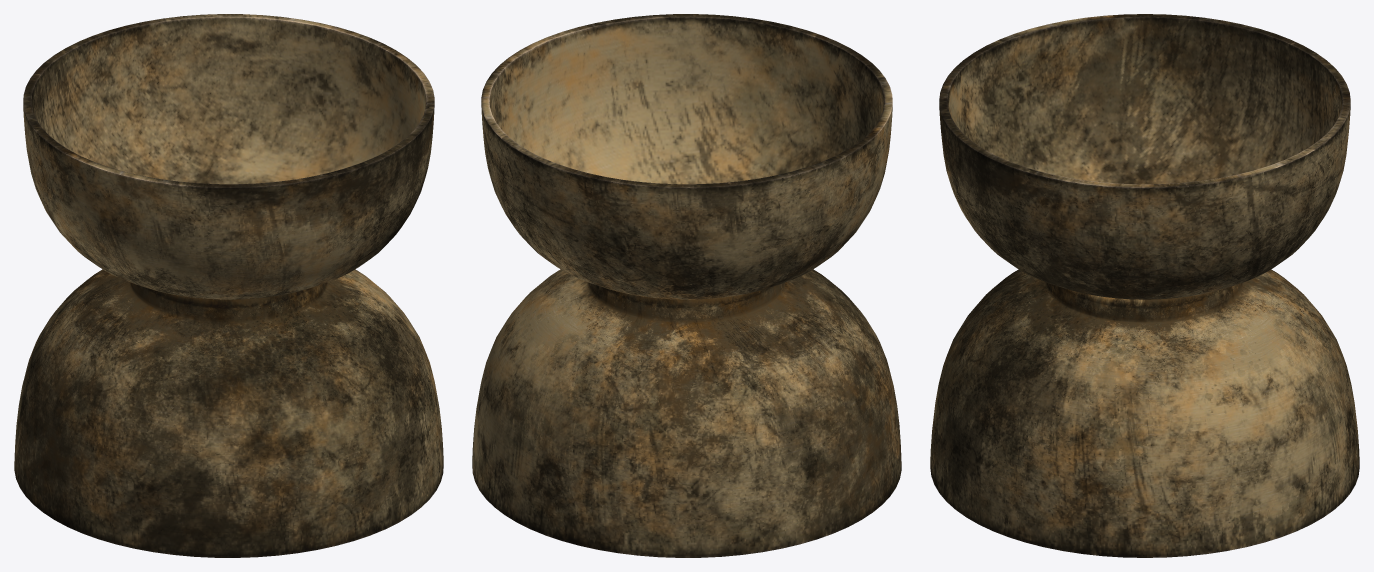
Rendered from SM_Spittoons.fbx.
The picture shows the model from 3 angles, left to right: view 1: azimuth 30°, elevation 25°; view 2: azimuth 150°, elevation 25°; view 3: azimuth 270°, elevation 25°; orthographic projection.
Parts seen in each view (by area): view 1: SM_Spittoons; view 2: SM_Spittoons; view 3: SM_Spittoons.
Boxes of the visible parts, box(x1,y1,x2,y2) form: SM_Spittoons: box(14, 14, 443, 557); SM_Spittoons: box(472, 14, 901, 557); SM_Spittoons: box(930, 14, 1359, 557).
Size of the model in its own units: 9.54 by 9 by 9.54.
1 material, 1 textured.
